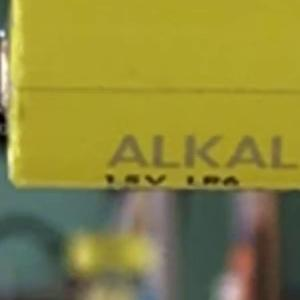ALK: (95, 127, 204, 194)
